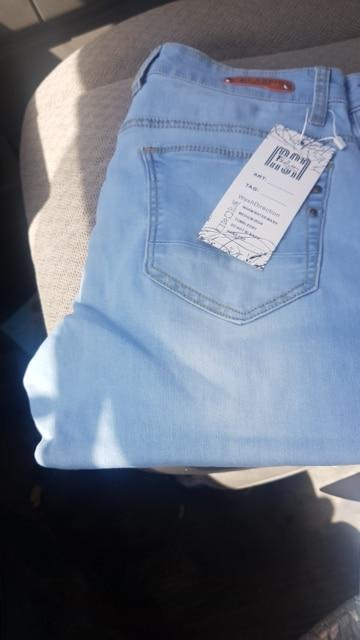jeans: (39, 42, 360, 452)
